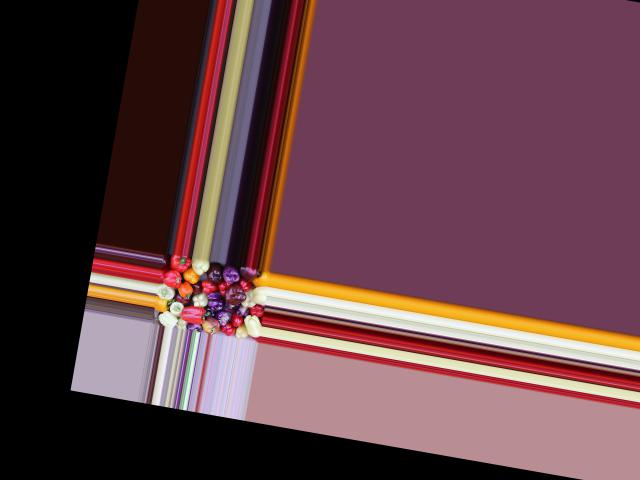bell_pepper: (156, 283, 177, 299)
